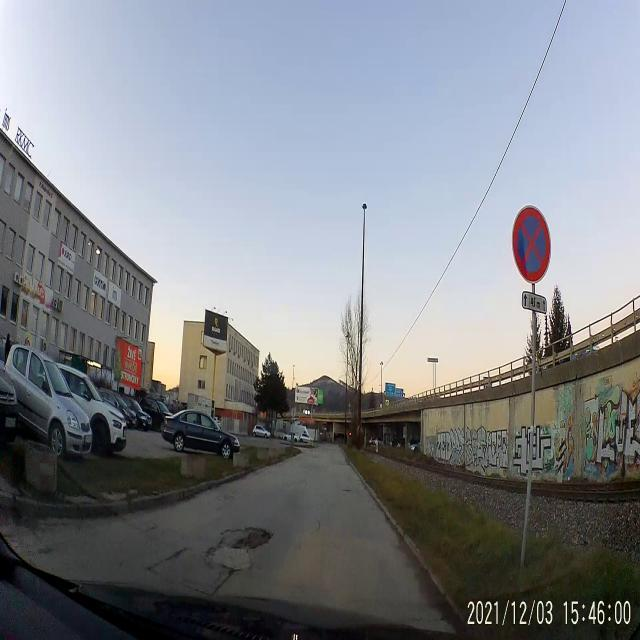Pothole: (203, 546, 252, 582), (217, 524, 275, 550)
